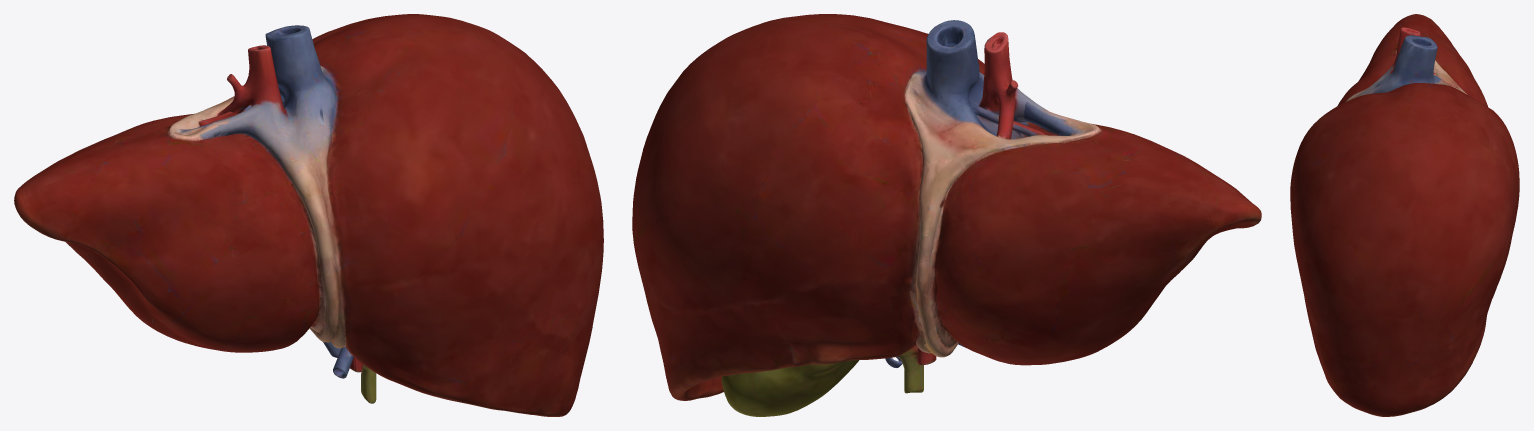
The model's file is g3d-human-liver.glb.
3 renders of one model, left to right at view 1: azimuth 30°, elevation 25°; view 2: azimuth 150°, elevation 25°; view 3: azimuth 270°, elevation 25°, orthographic. The views are drawn at different scales.
Visible parts, largest first — view 1: human-liver; view 2: human-liver; view 3: human-liver.
Part boxes in pixels (x1,y1,x2,y2): human-liver: [14, 14, 603, 416]; human-liver: [632, 14, 1261, 416]; human-liver: [1290, 14, 1519, 416].
Size of the model in its own units: 0.25 by 0.1761 by 0.1241.
1 material, 1 textured.
